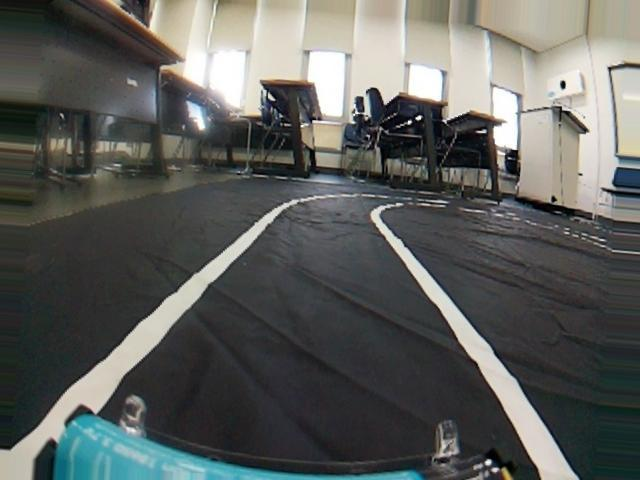straight: (5, 208, 611, 473)
